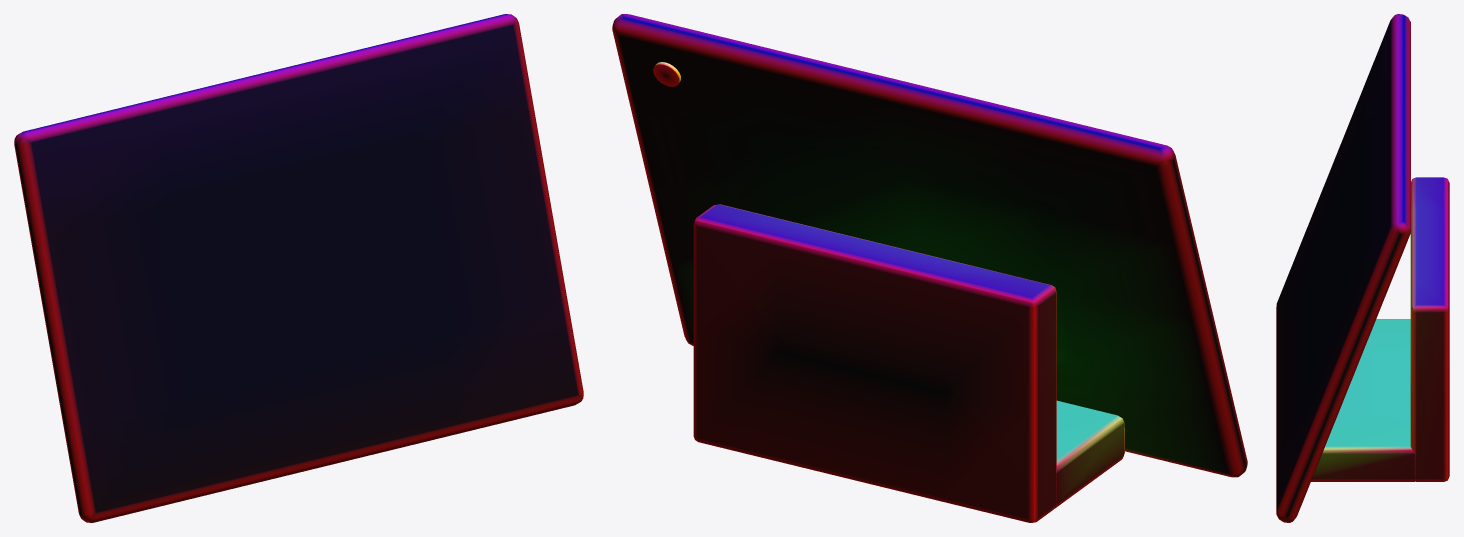
File: prop_tablet.fbx
The picture shows the model from 3 angles, left to right: view 1: azimuth 30°, elevation 25°; view 2: azimuth 150°, elevation 25°; view 3: azimuth 270°, elevation 25°; orthographic projection. The views are drawn at different scales.
Visible parts, largest first — view 1: prop_tablet; view 2: prop_tablet; view 3: prop_tablet.
Boxes of the visible parts, box(x1,y1,x2,y2) form: prop_tablet: box(14, 14, 583, 522); prop_tablet: box(612, 14, 1247, 522); prop_tablet: box(1276, 14, 1449, 522).
Bounding box in the file's own units: 0.26 × 0.17 × 0.0887.
